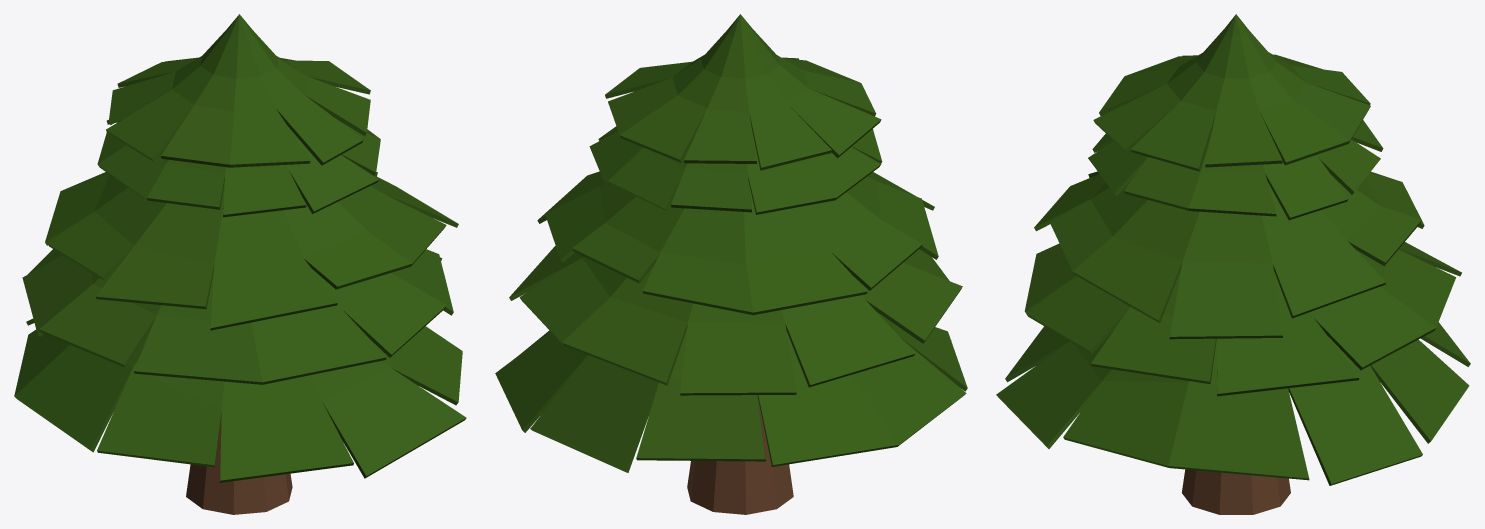
The model's file is pine1correct.fbx.
3 views of the same model, side by side, from view 1: azimuth 30°, elevation 25°; view 2: azimuth 150°, elevation 25°; view 3: azimuth 270°, elevation 25° (orthographic).
Visible parts, largest first — view 1: Circle.001; view 2: Circle.001; view 3: Circle.001.
Part boxes in pixels (x1,y1,x2,y2): Circle.001: (14,14,466,514); Circle.001: (495,14,967,514); Circle.001: (996,14,1470,514).
Size of the model in its own units: 206 by 241 by 216.
